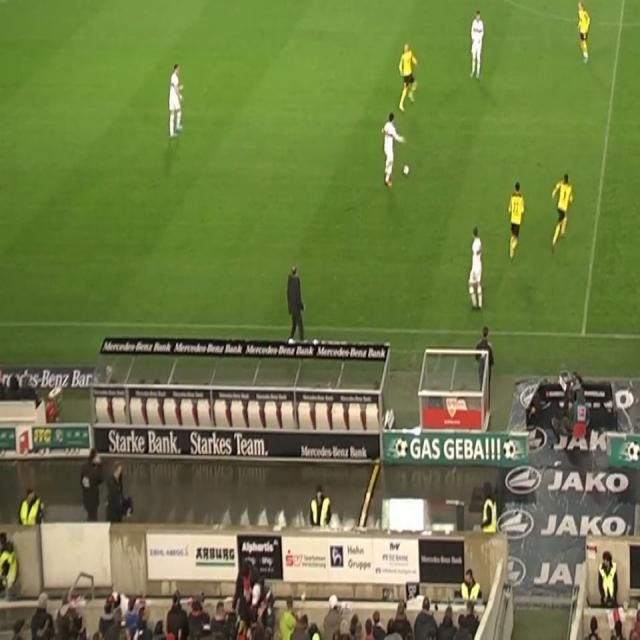ball: (402, 162, 411, 177)
